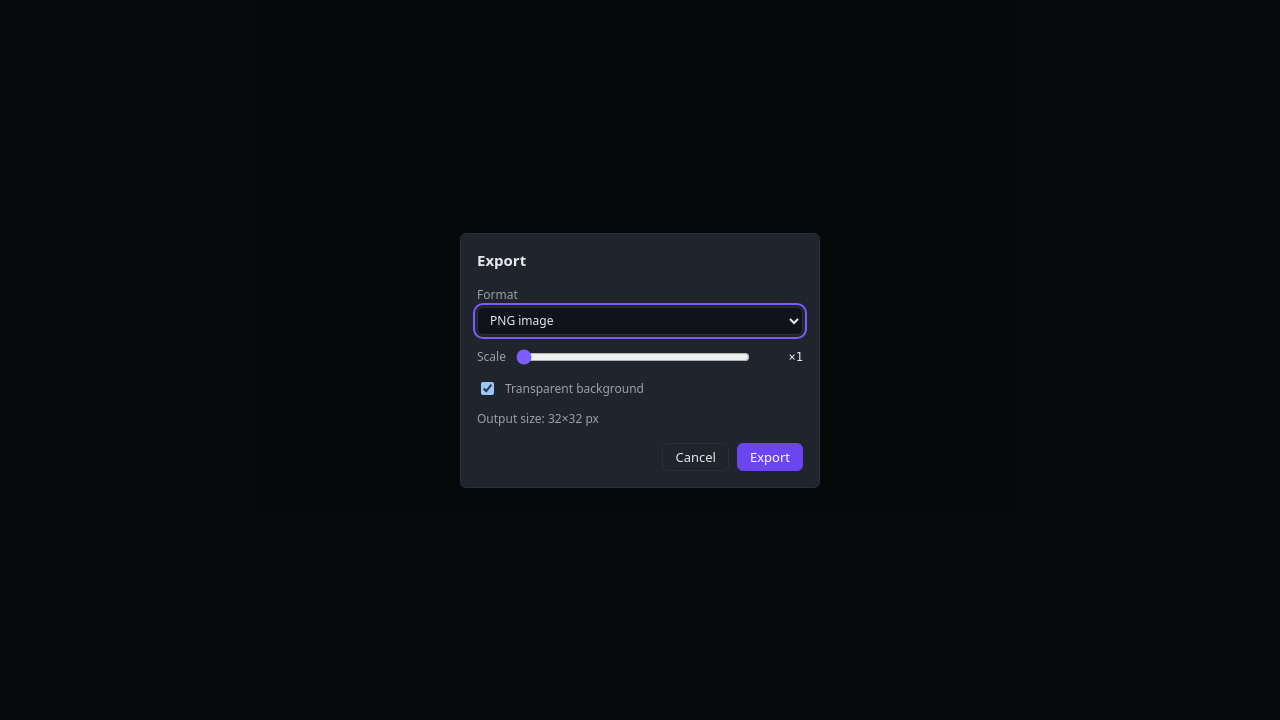
Test: ExportDialog › previews the output size from the scale
Expected: the text "Output size: 32×32 px" is shown, x1=477 y1=410 x2=599 y2=426
Set the slider labelled "Scale" to "3": (538, 356) x1=516 y1=348 x2=750 y2=364
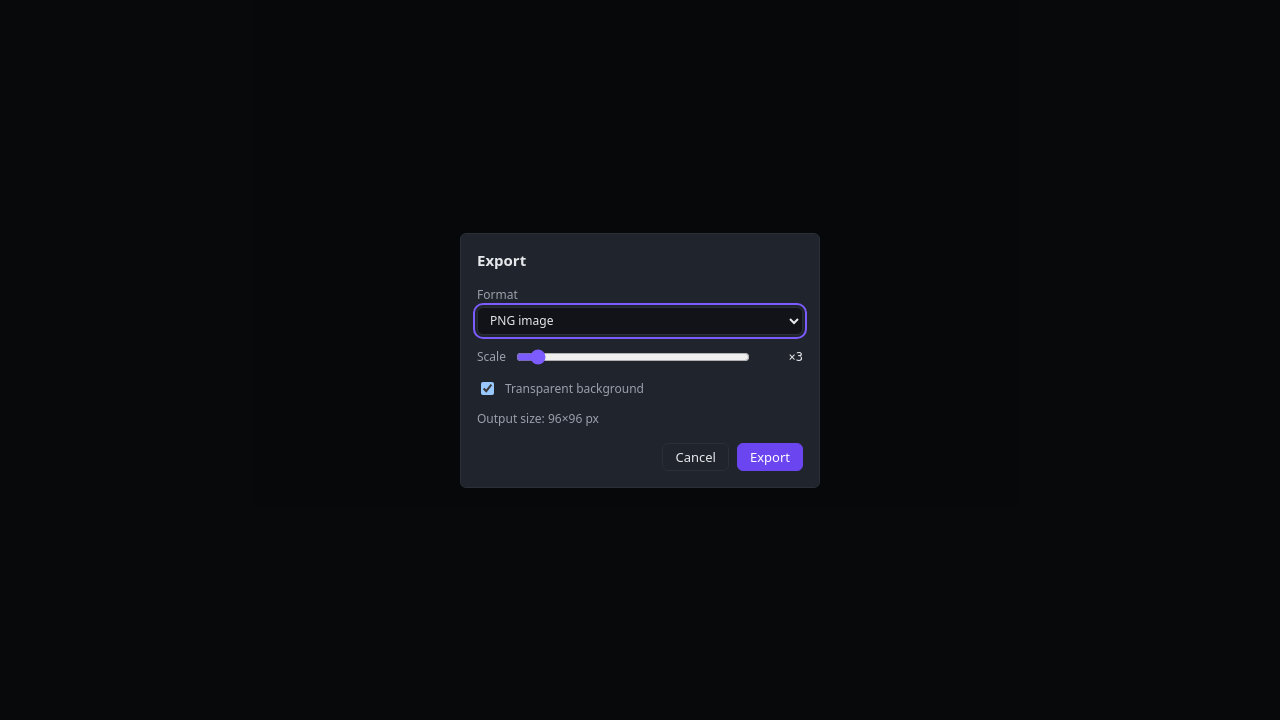
Expected: the text "Output size: 96×96 px" is shown, x1=477 y1=410 x2=599 y2=426
